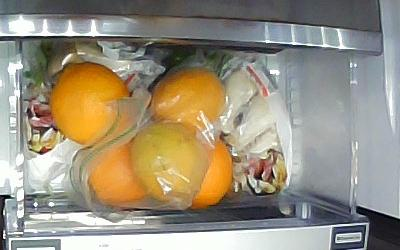orange: (51, 62, 132, 147), (177, 135, 234, 208)
orange_vinyl: (132, 124, 207, 202), (151, 68, 227, 127), (87, 142, 146, 205)
